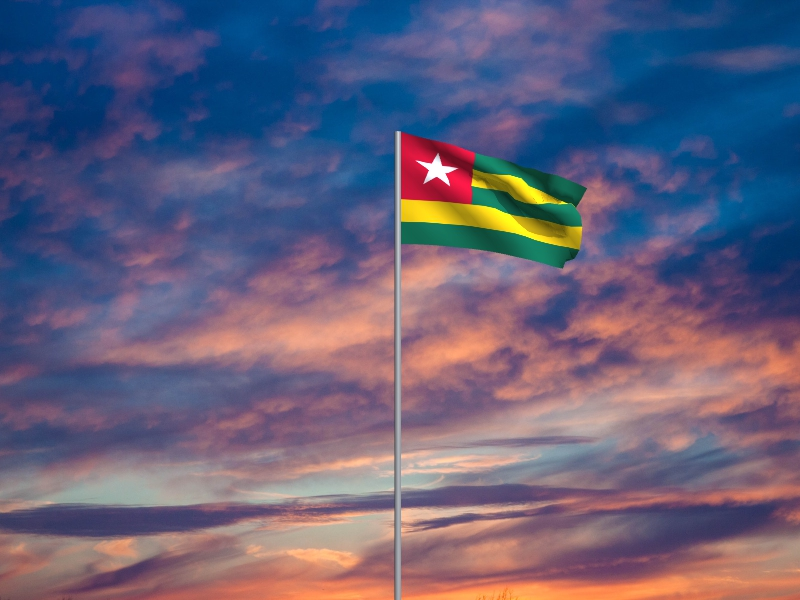tg: (402, 134, 589, 270)
